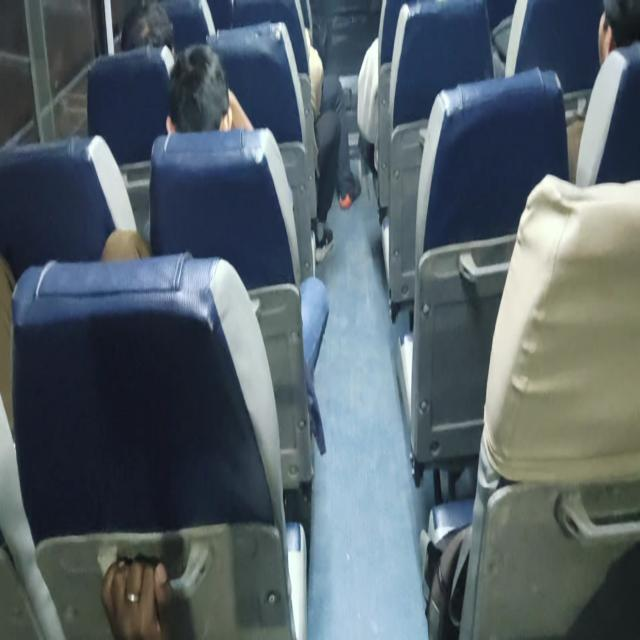person: (103, 41, 330, 454), (100, 42, 254, 260), (565, 0, 639, 182), (165, 42, 254, 134), (100, 552, 195, 638), (120, 1, 175, 54), (597, 0, 639, 66)
